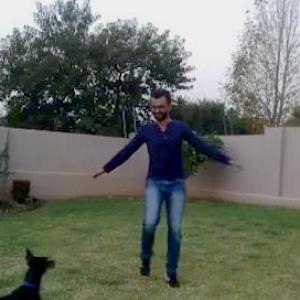land: (88, 75, 248, 290)
